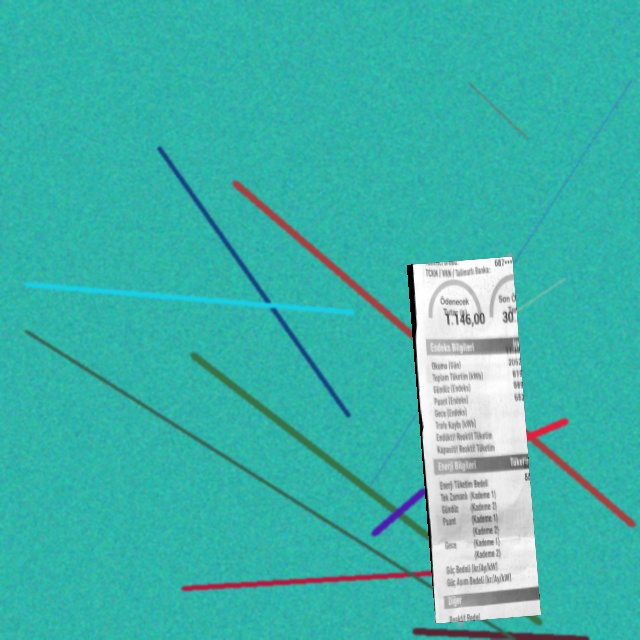electricity-bill: (407, 256, 541, 624)
